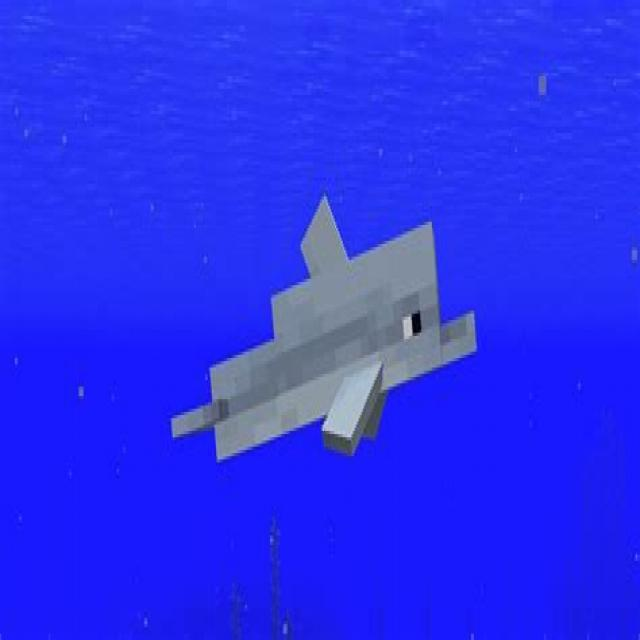Dolphin: (172, 185, 480, 506)
